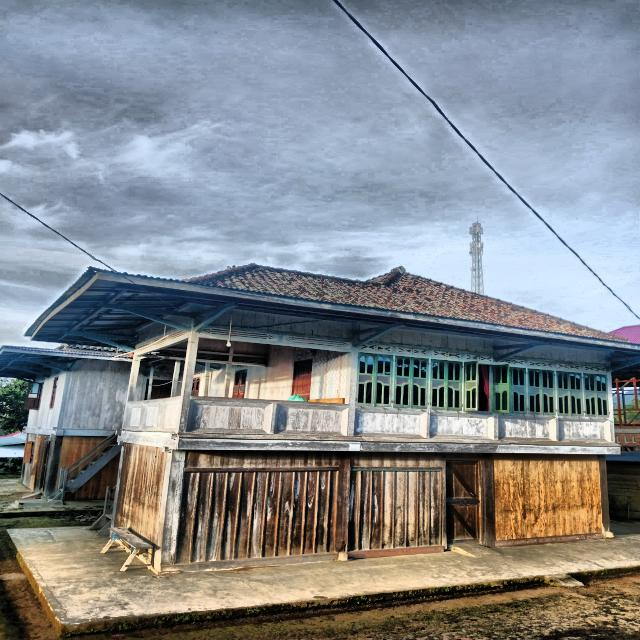column: (153, 446, 186, 566), (336, 451, 350, 560), (482, 453, 495, 548), (599, 454, 613, 539)
door: (447, 461, 479, 545), (292, 360, 312, 400)
ornamen: (186, 400, 274, 434), (275, 404, 348, 435), (354, 408, 427, 439), (429, 412, 495, 440), (499, 416, 555, 442), (559, 418, 611, 442), (157, 399, 180, 432), (140, 402, 160, 430), (124, 403, 141, 430)
roof: (26, 265, 640, 370), (0, 344, 130, 379)
stair: (47, 432, 122, 502), (87, 485, 116, 536)
wall: (175, 450, 338, 564), (354, 330, 494, 444), (498, 346, 612, 446), (347, 452, 444, 553), (493, 453, 603, 540), (228, 344, 348, 400), (115, 442, 165, 546), (62, 360, 132, 429), (66, 451, 121, 500), (24, 368, 66, 429), (61, 436, 108, 468), (207, 362, 227, 397)
window: (463, 360, 510, 413), (355, 352, 393, 407), (393, 355, 428, 409), (429, 359, 463, 411), (528, 368, 556, 415), (556, 371, 584, 416), (583, 373, 610, 417), (510, 367, 527, 414), (24, 382, 44, 410), (232, 369, 247, 398), (49, 377, 58, 408), (191, 377, 200, 396)
